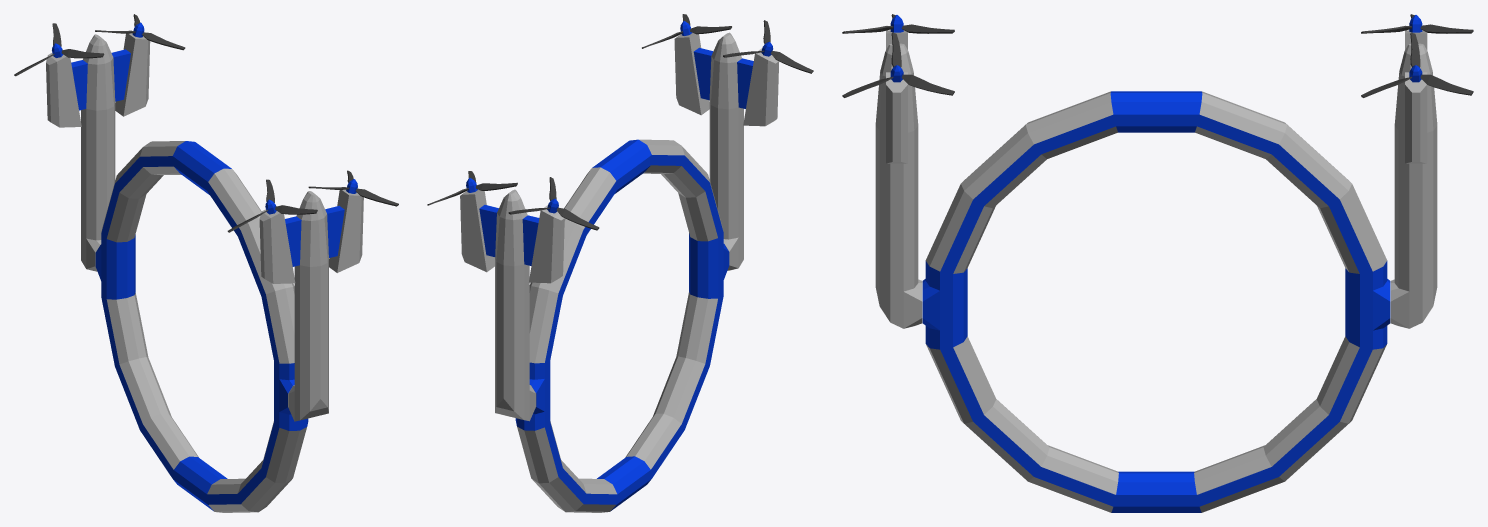
The model's file is Ring.fbx.
3 renders of one model, left to right at view 1: azimuth 30°, elevation 25°; view 2: azimuth 150°, elevation 25°; view 3: azimuth 270°, elevation 25°, orthographic. The views are drawn at different scales.
Visible parts, largest first — view 1: Gate, Support, Propeller3, Propeller1, Propeller4, Propeller2; view 2: Gate, Support, Propeller3, Propeller1, Propeller4, Propeller2; view 3: Gate, Support, Propeller2, Propeller4, Propeller3, Propeller1.
Part boxes in pixels (box(x1,y1,x2,y2)): Gate: box(95, 141, 308, 512); Support: box(46, 33, 363, 421); Propeller3: box(14, 23, 104, 76); Propeller1: box(227, 179, 317, 232); Propeller4: box(95, 14, 185, 50); Propeller2: box(308, 170, 398, 206); Gate: box(515, 139, 729, 512); Support: box(460, 32, 779, 421); Propeller3: box(508, 177, 599, 230); Propeller1: box(723, 20, 813, 73); Propeller4: box(427, 171, 517, 205); Propeller2: box(642, 14, 731, 48); Gate: box(922, 91, 1390, 512); Support: box(875, 30, 1437, 328); Propeller2: box(842, 32, 954, 97); Propeller4: box(1361, 32, 1473, 97); Propeller3: box(1361, 14, 1473, 33); Propeller1: box(842, 14, 954, 33).
Bounding box in the file's own units: 985 × 2460 × 2951.
